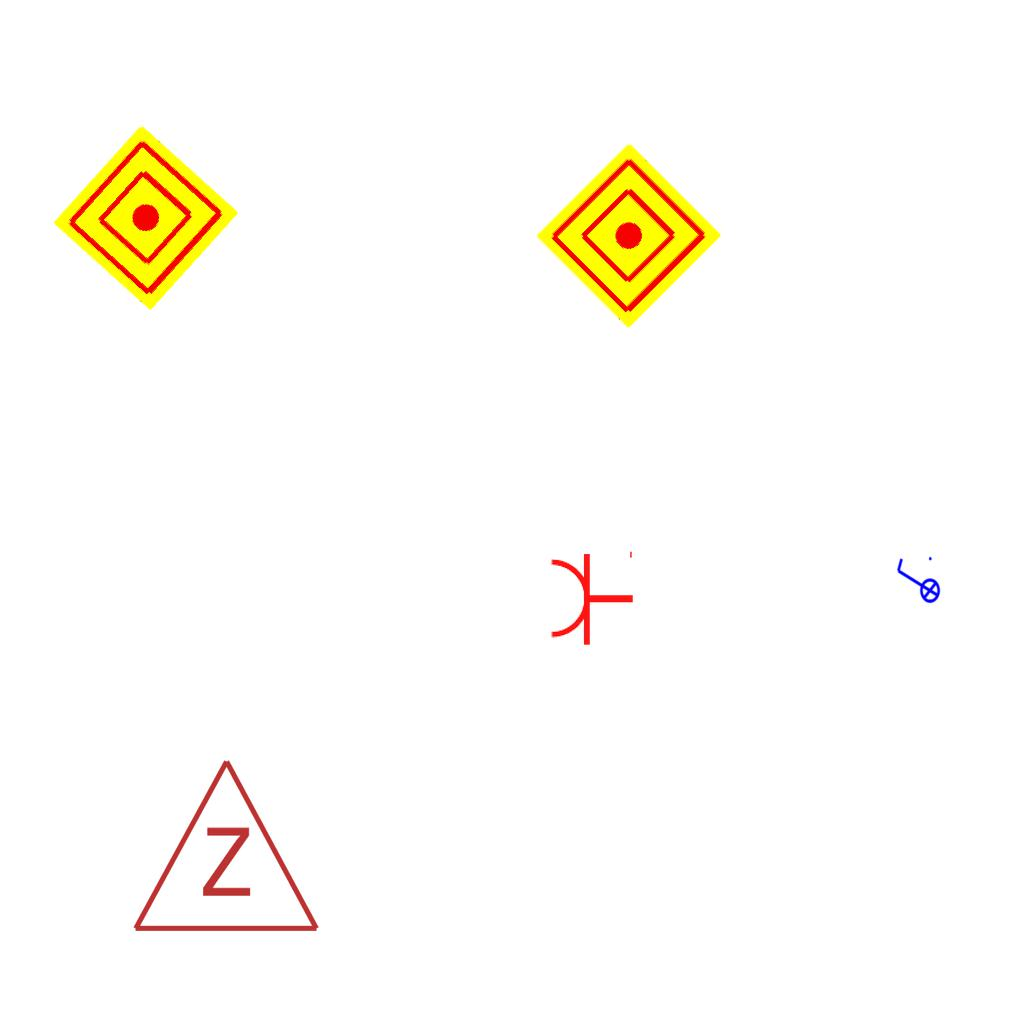Ausschalter_beleuchtet: (893, 554, 941, 610)
NAM-Nichtautomatischer_Melder: (52, 124, 240, 312), (535, 142, 723, 330)
Schukosteckdose_einfach: (548, 547, 635, 647)
Zimmersignalleuchte: (126, 746, 322, 946)
